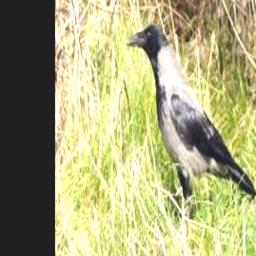Crow: (126, 24, 256, 218)
